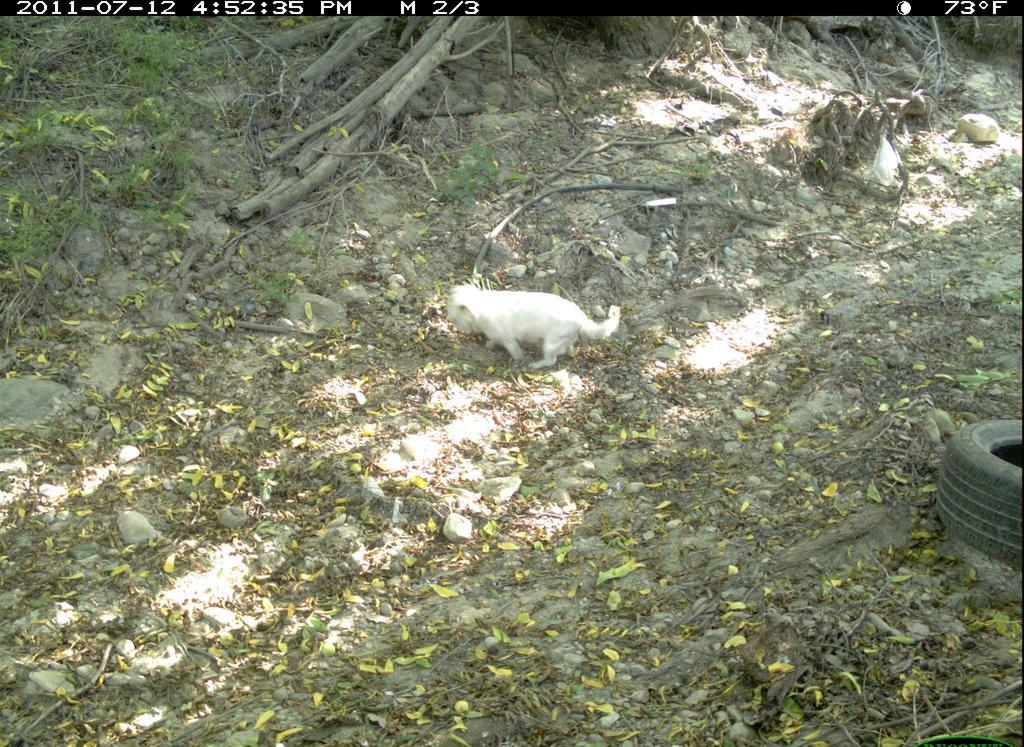dog: (443, 274, 635, 385)
